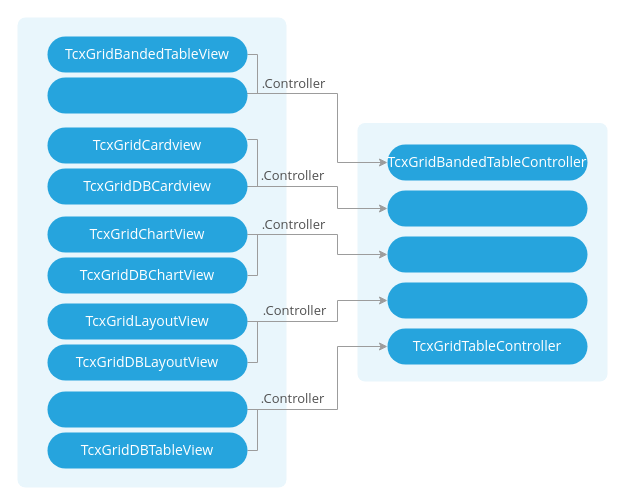
The diagram is 624 pixels wide and 504 high, and some of its shapes have lost their labels. The centre of each missing label's shape, as x and y in pixels:
"TcxGridCardViewController" belongs at (x=487, y=208).
"TcxGridChartController" belongs at (x=487, y=254).
"TcxGridDBBandedTableView" belongs at (x=147, y=95).
"TcxGridLayoutViewController" belongs at (x=487, y=300).
"TcxGridTableView" belongs at (x=147, y=409).
